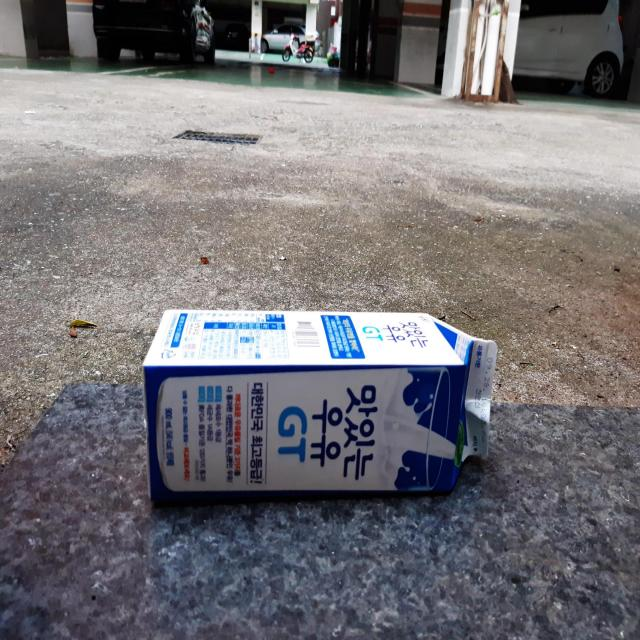paperpack: (144, 311, 496, 502)
